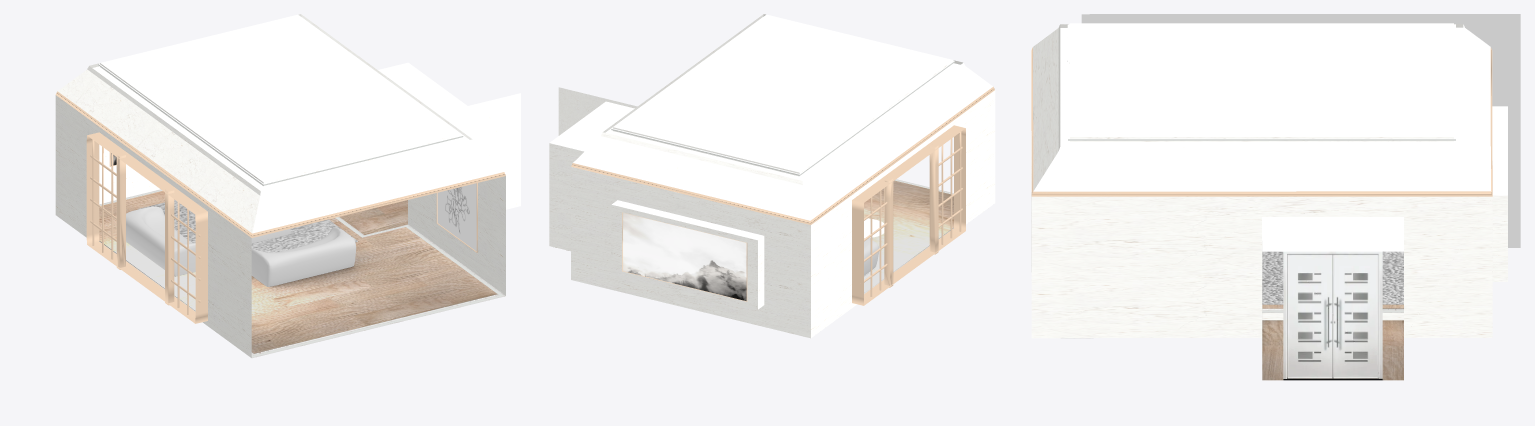
The model's file is ModernLivingRoom.glb.
3 views of the same model, side by side, from view 1: azimuth 30°, elevation 25°; view 2: azimuth 150°, elevation 25°; view 3: azimuth 270°, elevation 25° (orthographic). The views are drawn at different scales.
Parts seen in each view (by area): view 1: DoorBlocker, Modern Living Room_Planks_0, Modern Living Room_Frame_0, Modern Living Room_Painting_0, Modern Living Room_Carpet_0, Modern Living Room_Floor_0; view 2: DoorBlocker, Modern Living Room_Frame_0, Modern Living Room_TVScreen_0, Modern Living Room_Planks_0; view 3: DoorBlocker, Modern Living Room_Door_0, Modern Living Room_Backdrop_0, Modern Living Room_Frame_0, Modern Living Room_Planks_0, Modern Living Room_Carpet_0.
Boxes of the visible parts, x1,y1,x2,y2 form: DoorBlocker: (55, 14, 520, 357); Modern Living Room_Planks_0: (99, 191, 497, 353); Modern Living Room_Frame_0: (55, 64, 505, 357); Modern Living Room_Painting_0: (437, 183, 476, 251); Modern Living Room_Carpet_0: (138, 200, 357, 252); Modern Living Room_Floor_0: (99, 189, 505, 358); DoorBlocker: (549, 14, 995, 338); Modern Living Room_Frame_0: (571, 61, 994, 305); Modern Living Room_TVScreen_0: (623, 213, 746, 300); Modern Living Room_Planks_0: (864, 180, 953, 293); DoorBlocker: (1031, 23, 1507, 370); Modern Living Room_Door_0: (1283, 251, 1382, 378); Modern Living Room_Backdrop_0: (1081, 14, 1520, 247); Modern Living Room_Frame_0: (1031, 47, 1492, 312); Modern Living Room_Planks_0: (1262, 304, 1403, 380); Modern Living Room_Carpet_0: (1262, 251, 1403, 304).
Bounding box in the file's own units: 10.99 × 5.81 × 10.
15 materials, 14 textured.
